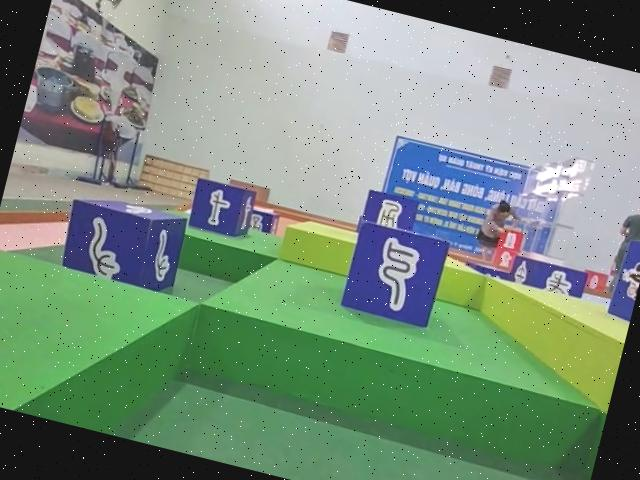R1 Blue: (604, 232, 640, 331)
R2 Fake Blue: (338, 220, 452, 333), (506, 252, 587, 299), (359, 188, 418, 235)
R2 Real Blue: (56, 187, 190, 294), (185, 175, 257, 239), (247, 205, 281, 234)
